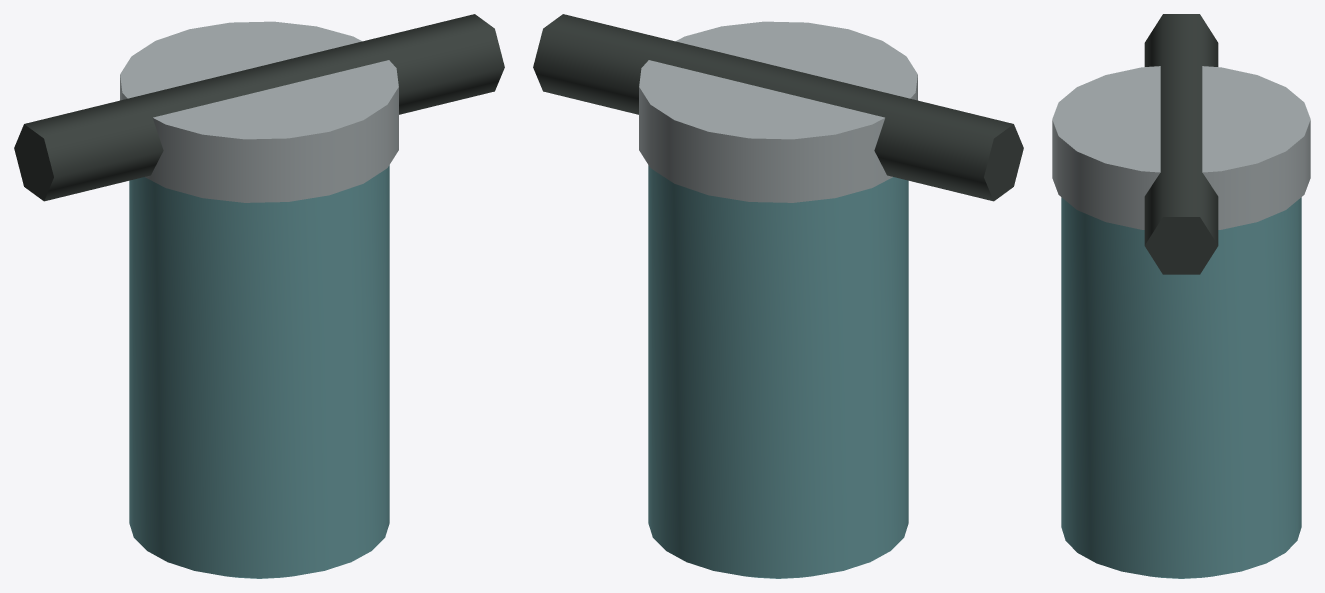
The model's file is survival-greenhouse-and-irrigation-inline-filter-97a4872b__21325.glb.
3 renders of one model, left to right at view 1: azimuth 30°, elevation 25°; view 2: azimuth 150°, elevation 25°; view 3: azimuth 270°, elevation 25°, orthographic. The views are drawn at different scales.
Visible parts, largest first — view 1: inline-filter; view 2: inline-filter; view 3: inline-filter.
Part boxes in pixels (box(x1,y1,x2,y2)): inline-filter: box(14, 14, 504, 578); inline-filter: box(533, 14, 1023, 578); inline-filter: box(1052, 14, 1310, 578).
Size of the model in its own units: 0.26 by 0.2573 by 0.14.
